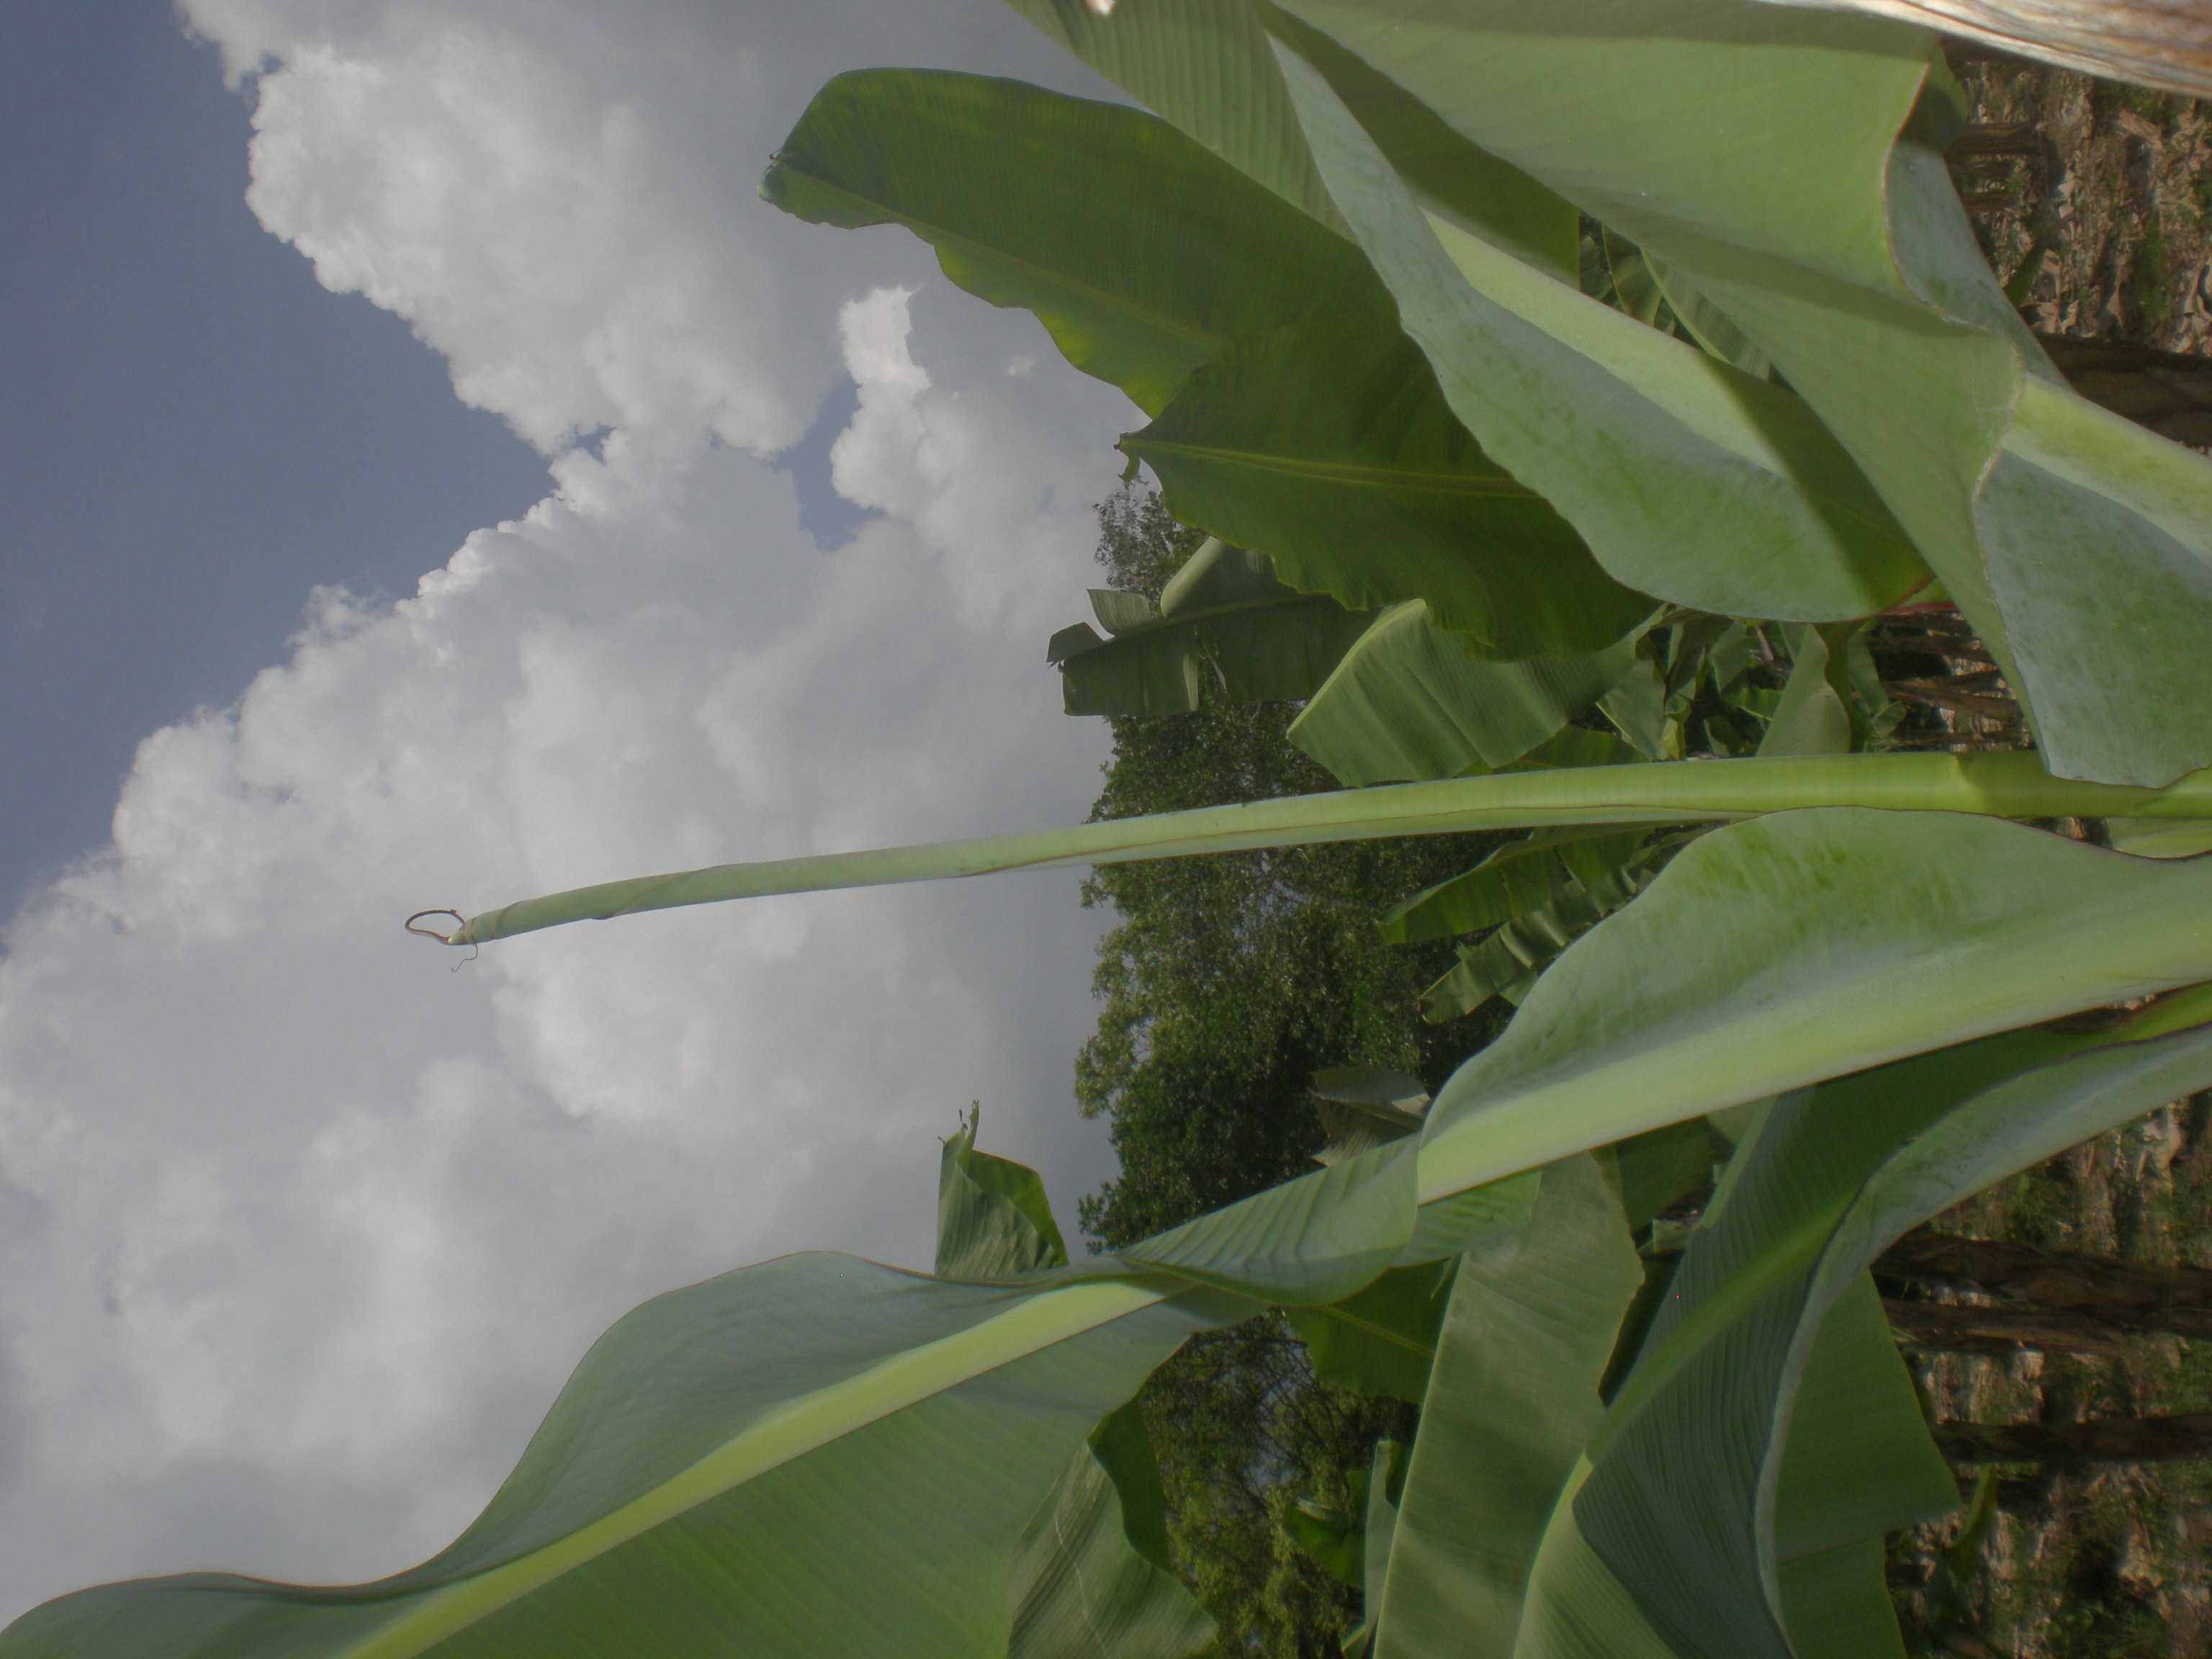candleleafs: (402, 720, 2019, 951)
